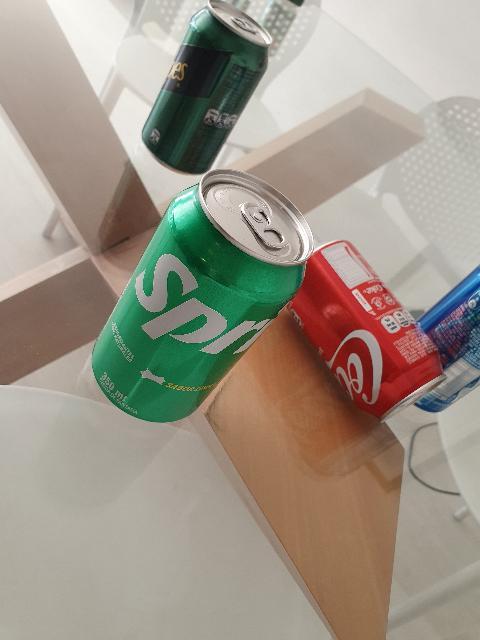coke: (286, 240, 444, 438)
pepsi: (406, 258, 480, 412)
schweppes: (144, 4, 268, 170)
sprite: (91, 168, 309, 420)
